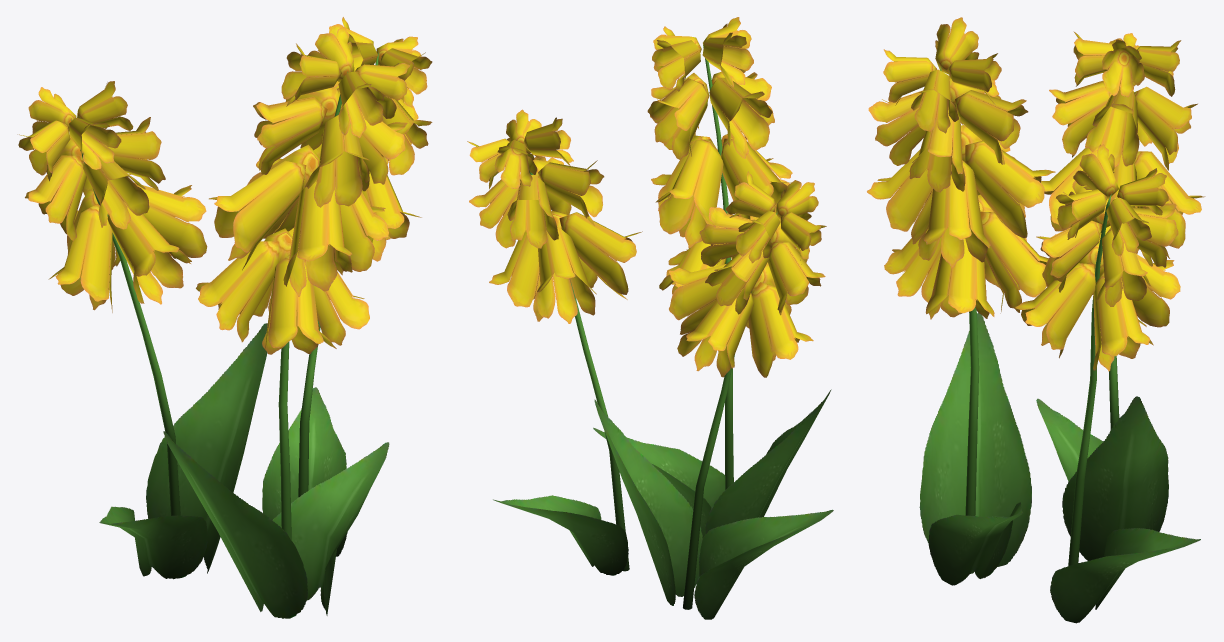
The model's file is flower_flower_4_group.glb.
The picture shows the model from 3 angles, left to right: view 1: azimuth 30°, elevation 25°; view 2: azimuth 150°, elevation 25°; view 3: azimuth 270°, elevation 25°; orthographic projection. The views are drawn at different scales.
Parts seen in each view (by area): view 1: Plane003_1, Plane003; view 2: Plane003_1, Plane003; view 3: Plane003_1, Plane003.
Boxes of the visible parts, x1,y1,x2,y2 form: Plane003_1: (17, 17, 432, 354); Plane003: (71, 52, 389, 618); Plane003_1: (467, 17, 826, 377); Plane003: (493, 45, 833, 619); Plane003_1: (867, 17, 1205, 371); Plane003: (919, 66, 1200, 623).
Bounding box in the file's own units: 0.358 × 0.5 × 0.275.
2 materials, 2 textured.
